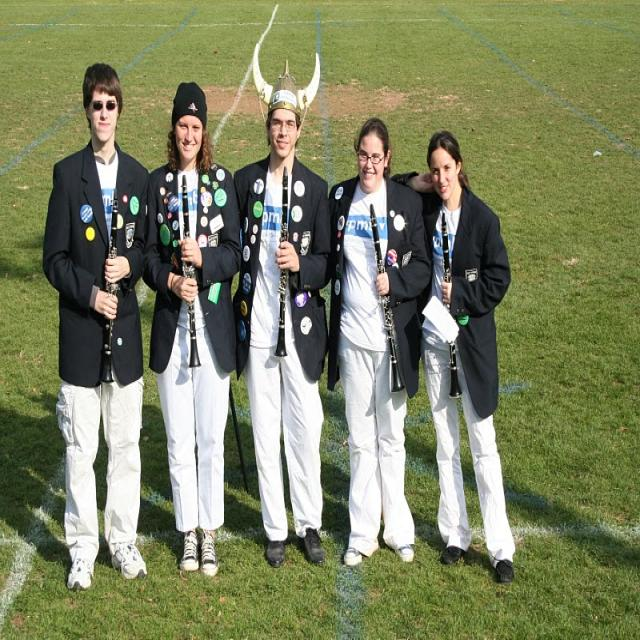clarinet: (368, 200, 408, 396), (96, 187, 123, 387), (179, 174, 206, 370), (439, 210, 464, 400), (272, 164, 291, 358)
